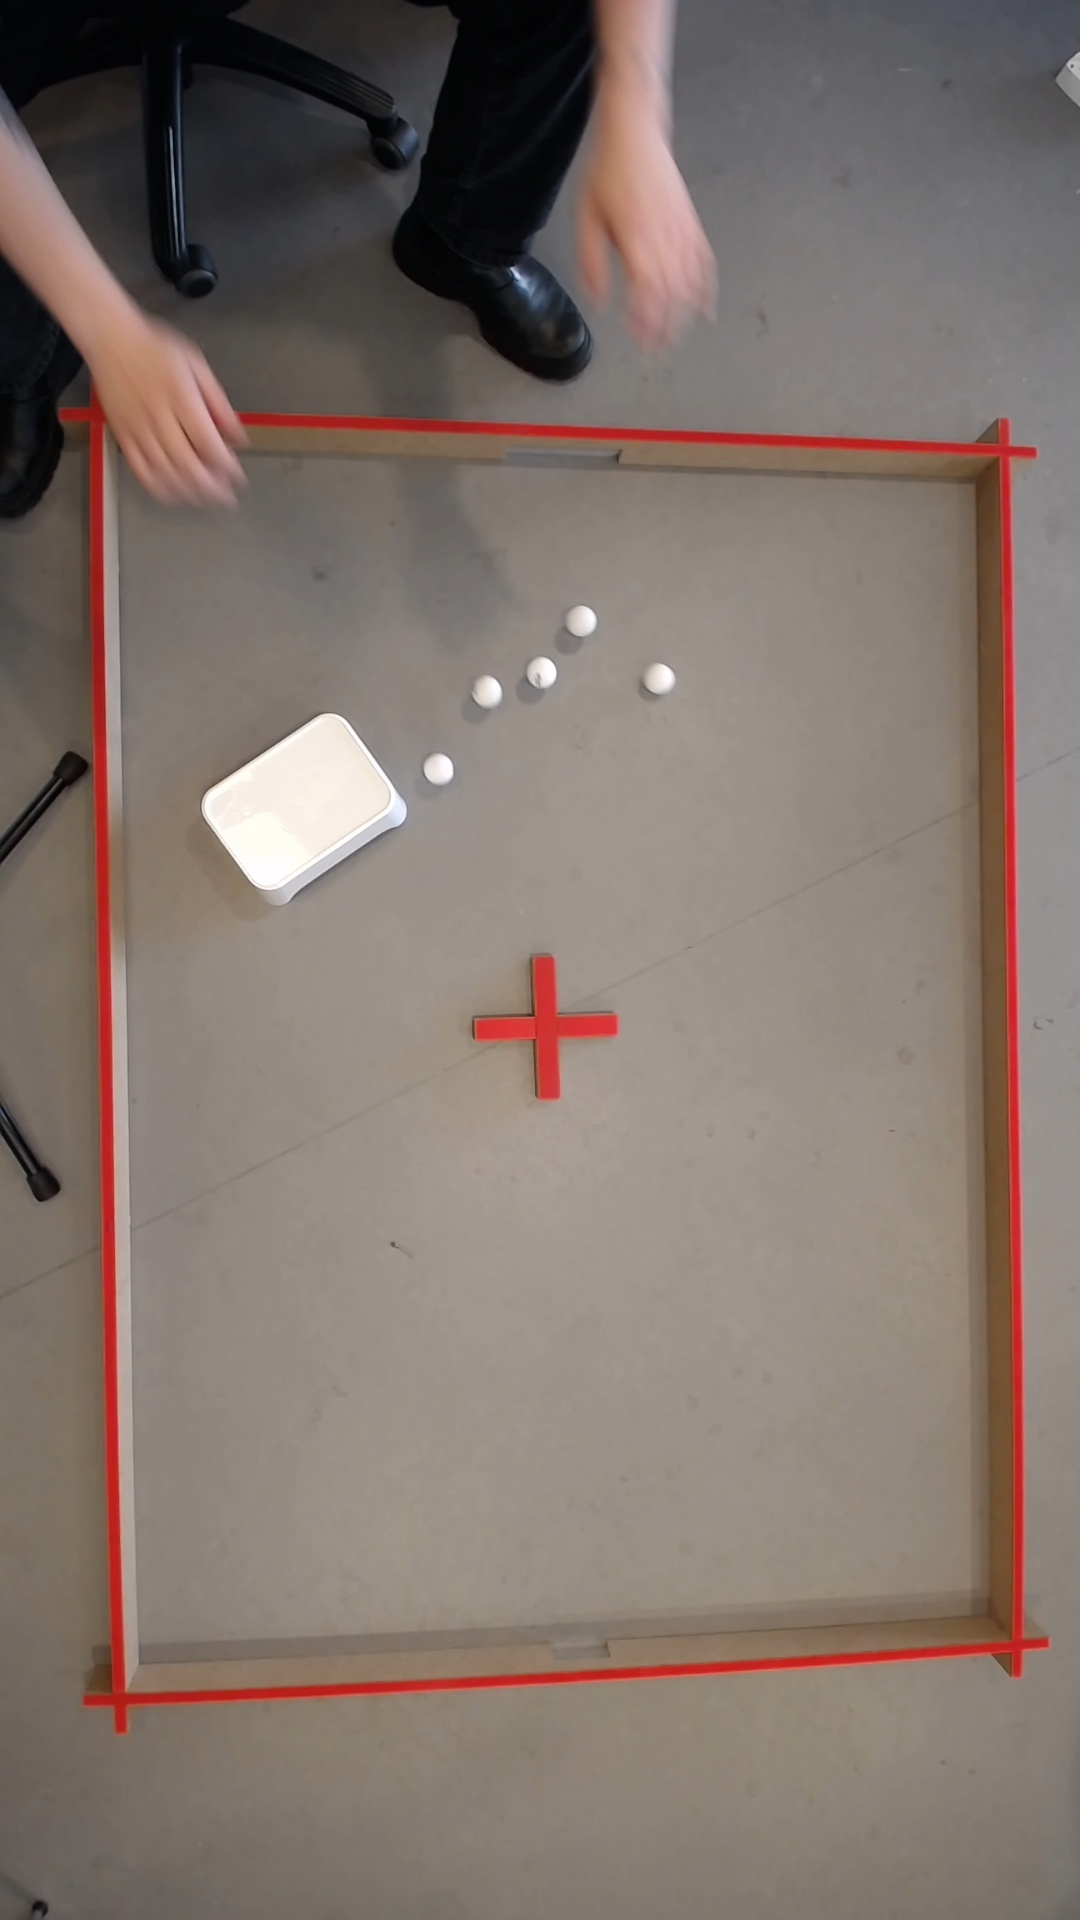balls: (191, 702, 413, 913), (611, 59, 703, 272), (55, 232, 144, 334), (419, 750, 458, 787), (644, 659, 678, 696), (567, 603, 600, 637), (475, 674, 502, 707)
car: (189, 359, 216, 388)
